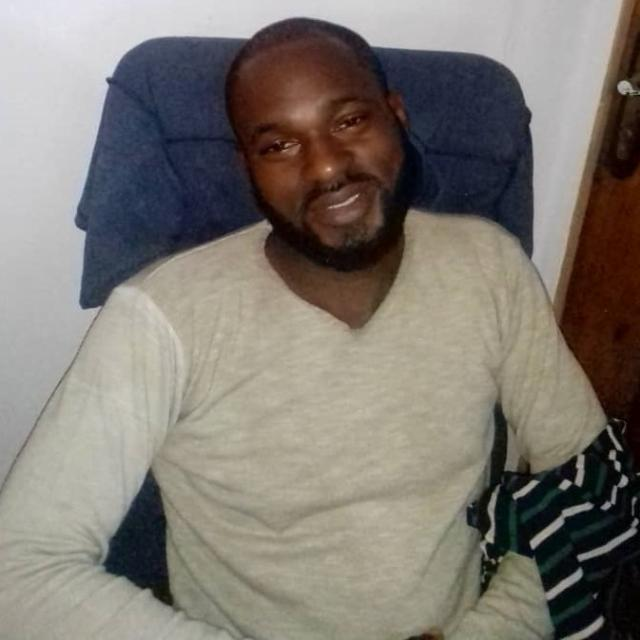happy: (223, 17, 424, 274)
